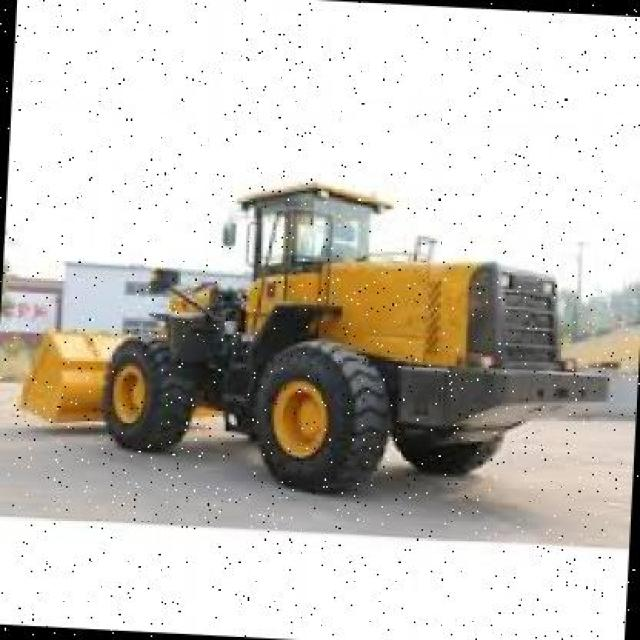buldozerpayloadergrader: (14, 155, 626, 503)
